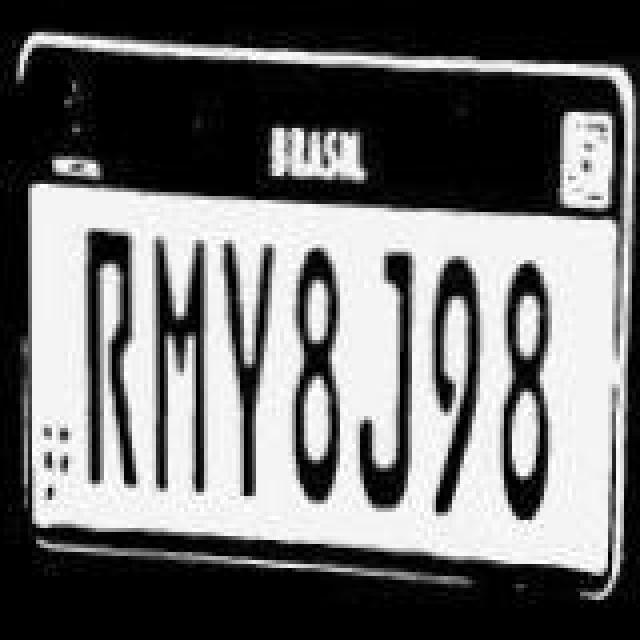8: (490, 258, 554, 522), (284, 242, 344, 502)
9: (416, 250, 484, 514)
J: (350, 248, 422, 520)
M: (142, 230, 214, 502)
R: (78, 222, 142, 494)
Y: (218, 234, 282, 506)
